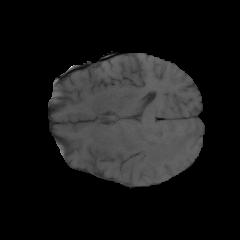glioma: (124, 123, 196, 170)
